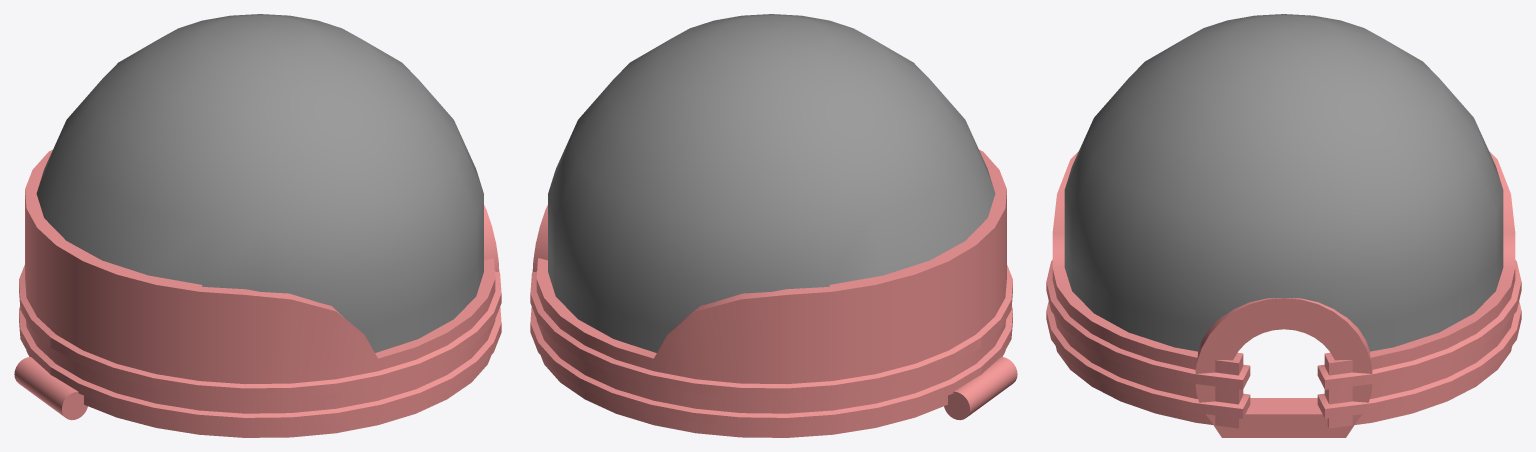
The model's file is RocketStation_Corridor_Lid_01.gltf.
3 renders of one model, left to right at view 1: azimuth 30°, elevation 25°; view 2: azimuth 150°, elevation 25°; view 3: azimuth 270°, elevation 25°, orthographic.
Visible parts, largest first — view 1: RocketStation_Corridor_Lid_01; view 2: RocketStation_Corridor_Lid_01; view 3: RocketStation_Corridor_Lid_01.
Boxes of the visible parts, x1,y1,x2,y2 form: RocketStation_Corridor_Lid_01: (14, 14, 501, 437); RocketStation_Corridor_Lid_01: (530, 14, 1017, 437); RocketStation_Corridor_Lid_01: (1046, 14, 1521, 437).
Bounding box in the file's own units: 4.03 × 2.85 × 3.94.
